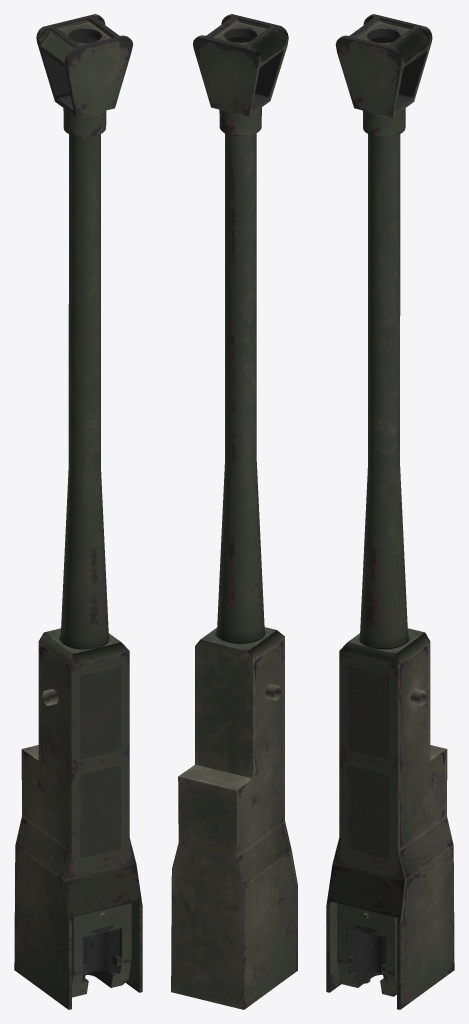
Rendered from Gun_01.glb.
The picture shows the model from 3 angles, left to right: view 1: azimuth 30°, elevation 25°; view 2: azimuth 150°, elevation 25°; view 3: azimuth 330°, elevation 25°; orthographic projection.
Visible parts, largest first — view 1: set_0_group_0; view 2: set_0_group_0; view 3: set_0_group_0.
Boxes of the visible parts, x1,y1,x2,y2 form: set_0_group_0: [14, 14, 142, 1009]; set_0_group_0: [171, 14, 297, 1009]; set_0_group_0: [326, 14, 454, 1009].
Size of the model in its own units: 0.5265 by 6.29 by 0.6456.
1 material, 1 textured.
